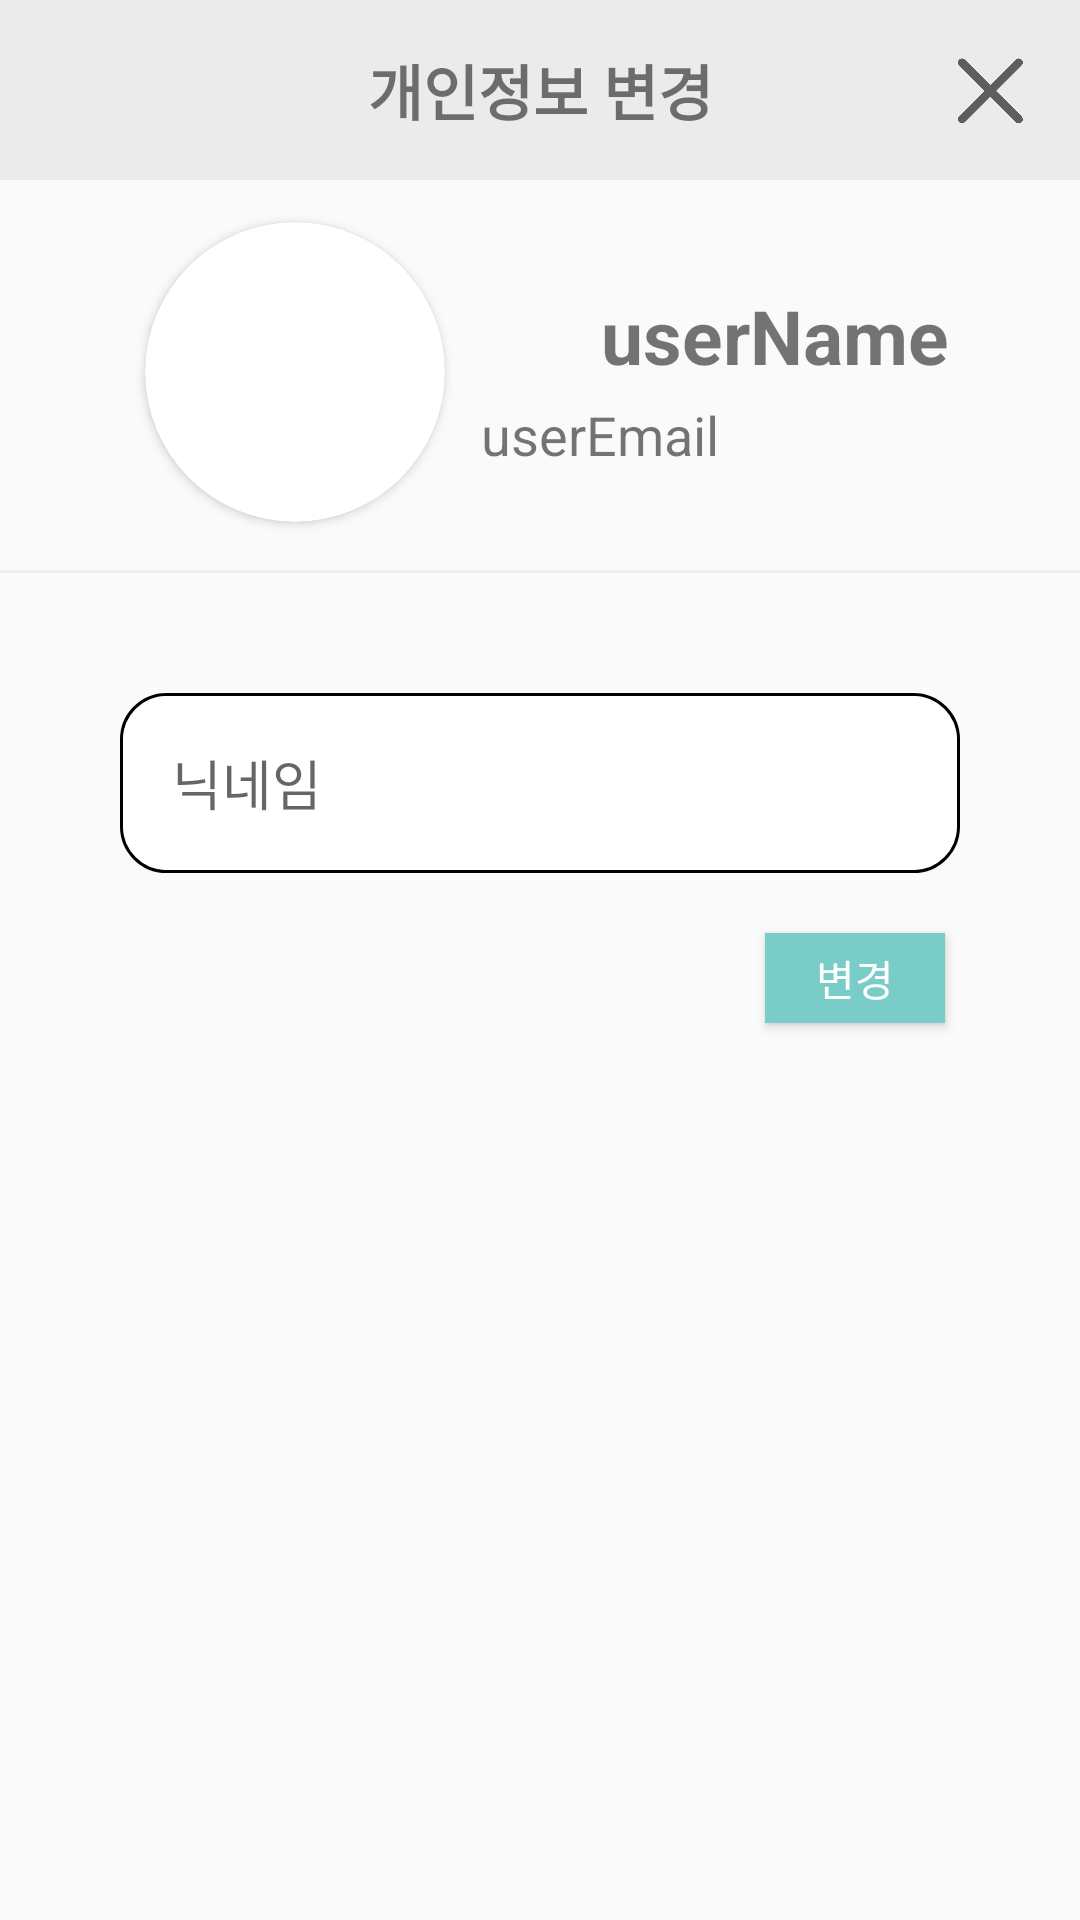

Named icons in this screenshot (1080w x 1920h) and their bounding boxes, bbox=(x1, y1, x2, y2):
close: bbox=(958, 58, 1023, 123)
